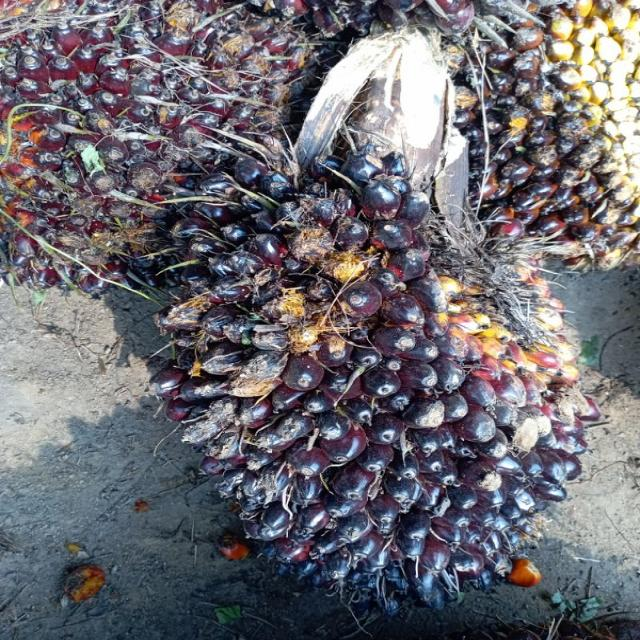fraksi 00: (134, 135, 613, 591), (0, 0, 292, 254), (439, 3, 640, 257)
